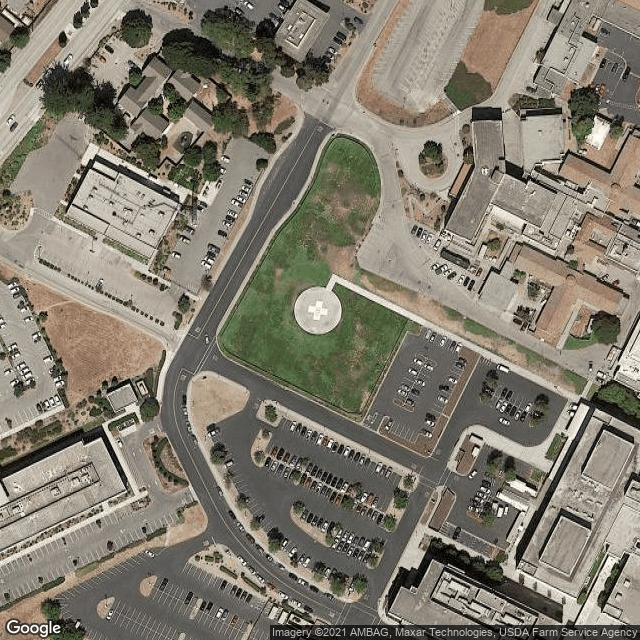Helipad: (298, 293, 336, 326)
